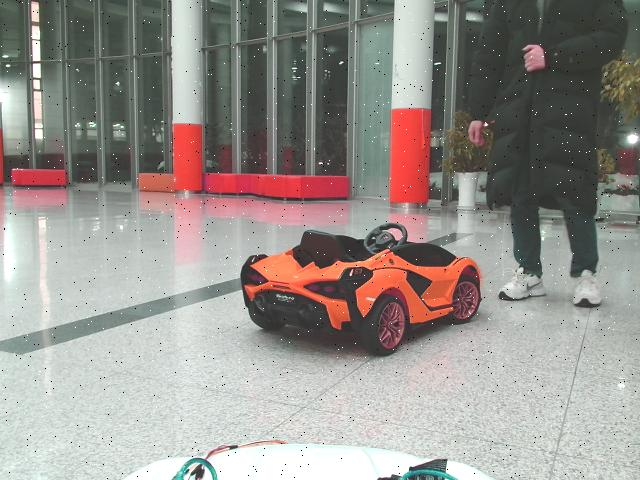car: (241, 223, 483, 356)
